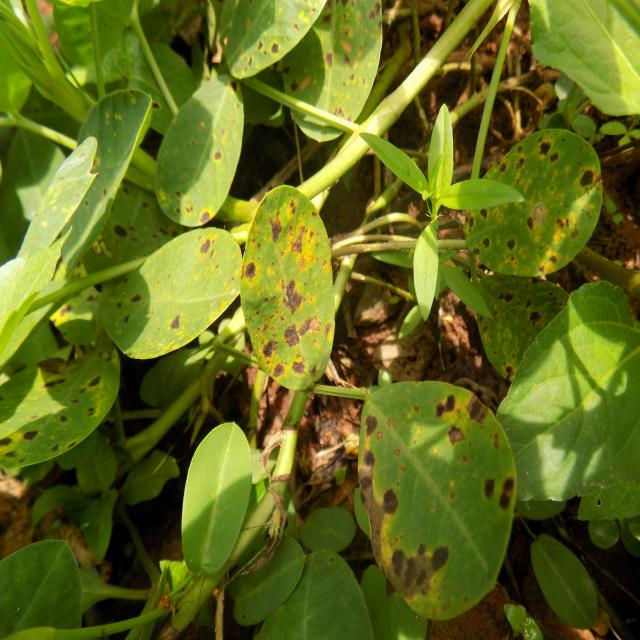Ground nut_healthy: (176, 413, 248, 573), (307, 496, 358, 558)
Ground nut_tikka leaf spot: (359, 375, 517, 621), (90, 222, 252, 364), (466, 118, 602, 270), (240, 186, 338, 384), (156, 72, 250, 226)
